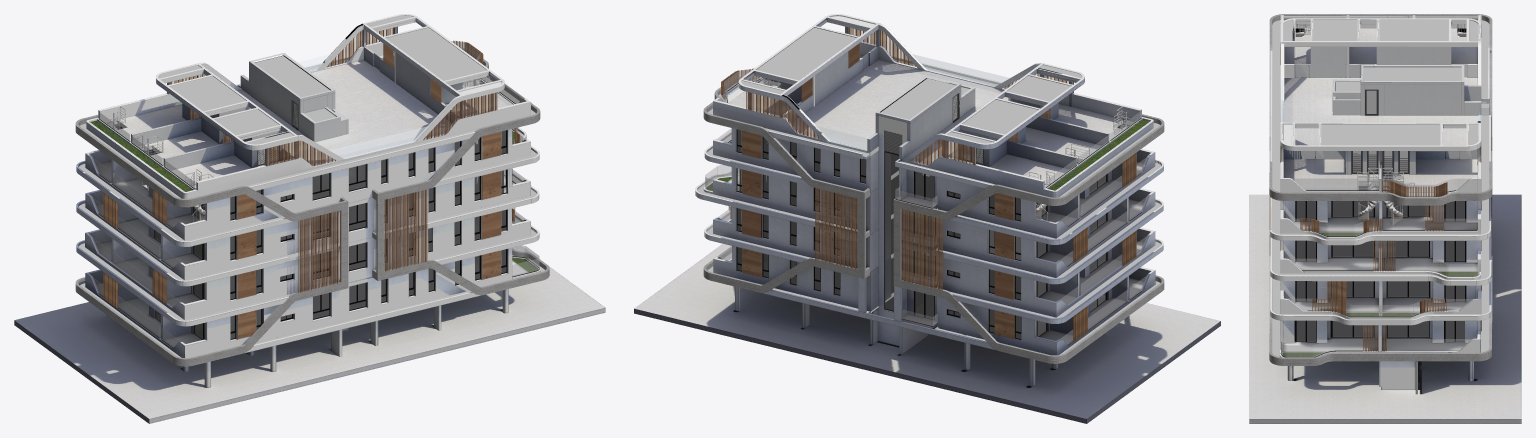
Rendered from type-f.glb.
3 views of the same model, side by side, from view 1: azimuth 30°, elevation 25°; view 2: azimuth 150°, elevation 25°; view 3: azimuth 270°, elevation 25° (orthographic).
Parts seen in each view (by area): view 1: Groun_ Floor001, RAILING - 028, Object_14572, Roo_Floor, BetonFrame 3rd-002, 1-4 Floor, KOMA-01, ROOF_Block, KOMA-004+, KOMA-02, KOMA-003, Roof Top L (+12 smaller); view 2: Groun_ Floor001, RAILING - 028, Object_14572, Roo_Floor, 1-4 Floor, KOMA-01, BetonFrame 3rd-002, KOMA-02, KOMA-004+, KOMA-003, ROOF_Block, Roof Top L (+14 smaller); view 3: Groun_ Floor001, 1-4 Floor, Object_14572, Roo_Floor, ROOF_Block, RAILING - 017, Win Glass, BetonFrame 3rd-002, RAILING - 028, Roof Top L, Roof Top R, KOMA-02 (+13 smaller).
Boxes of the visible parts, box(x1,y1,x2,y2) form: Groun_ Floor001: box(14, 245, 605, 423); RAILING - 028: box(103, 26, 520, 338); Object_14572: box(78, 15, 545, 357); Roo_Floor: box(106, 53, 513, 186); BetonFrame 3rd-002: box(75, 48, 549, 366); 1-4 Floor: box(96, 129, 528, 347); KOMA-01: box(78, 248, 540, 357); ROOF_Block: box(131, 27, 494, 170); KOMA-004+: box(85, 84, 530, 240); KOMA-02: box(85, 208, 530, 319); KOMA-003: box(85, 168, 530, 280); Roof Top L: box(86, 62, 360, 198); Groun_ Floor001: box(634, 243, 1220, 423); RAILING - 028: box(721, 26, 1136, 341); Object_14572: box(697, 27, 1161, 354); Roo_Floor: box(729, 52, 1133, 184); 1-4 Floor: box(728, 119, 1143, 344); KOMA-01: box(713, 246, 1155, 355); BetonFrame 3rd-002: box(703, 77, 1164, 363); KOMA-02: box(713, 207, 1155, 317); KOMA-004+: box(713, 83, 1155, 238); KOMA-003: box(713, 167, 1155, 277); ROOF_Block: box(748, 27, 1109, 169); Roof Top L: box(902, 63, 1153, 197); Groun_ Floor001: box(1249, 194, 1521, 423); 1-4 Floor: box(1282, 115, 1477, 354); Object_14572: box(1272, 20, 1489, 356); Roo_Floor: box(1283, 28, 1477, 192); ROOF_Block: box(1281, 15, 1489, 191); RAILING - 017: box(1281, 15, 1491, 357); Win Glass: box(1297, 186, 1464, 341); BetonFrame 3rd-002: box(1269, 14, 1492, 365); RAILING - 028: box(1269, 47, 1492, 351); Roof Top L: box(1280, 15, 1481, 107); Roof Top R: box(1280, 107, 1481, 195); KOMA-02: box(1280, 281, 1481, 319).
Size of the model in its own units: 39.02 by 19.31 by 20.
Materials: 41 (24 with a texture image).
